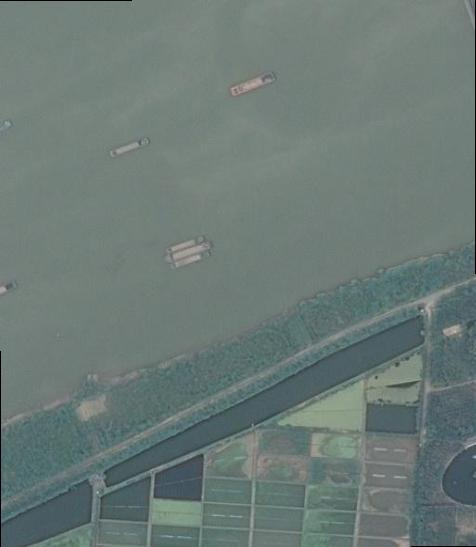ship: (231, 71, 277, 97), (167, 242, 215, 265), (111, 136, 152, 159), (172, 251, 212, 270), (168, 236, 207, 255)
